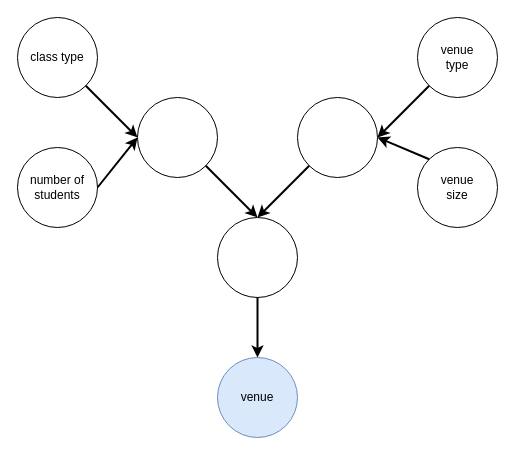
Some shapes in this 515 by 455 pixel diagram are drawn without their labels. Each missing label, with the box of its shape:
class: (136, 96, 218, 178)
distance: (216, 216, 298, 298)
venues: (296, 96, 378, 178)
